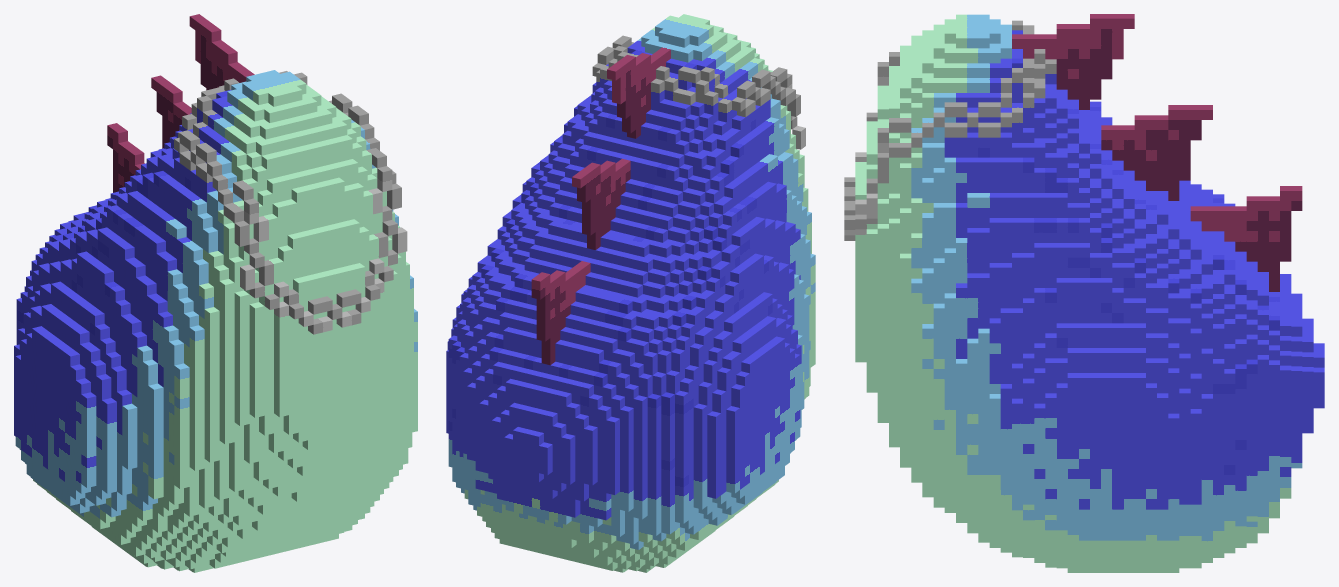
File: silver hooped chain.gltf
The picture shows the model from 3 angles, left to right: view 1: azimuth 30°, elevation 25°; view 2: azimuth 150°, elevation 25°; view 3: azimuth 270°, elevation 25°; orthographic projection. The views are drawn at different scales.
Visible parts, largest first — view 1: 02_Body_SilverChain-Mesh; view 2: 02_Body_SilverChain-Mesh; view 3: 02_Body_SilverChain-Mesh.
Part boxes in pixels (x1,y1,x2,y2): 02_Body_SilverChain-Mesh: (14,14,417,572); 02_Body_SilverChain-Mesh: (446,14,815,572); 02_Body_SilverChain-Mesh: (844,14,1324,572).
Bounding box in the file's own units: 33 × 51 × 43.
Materials: 1 (1 with a texture image).
